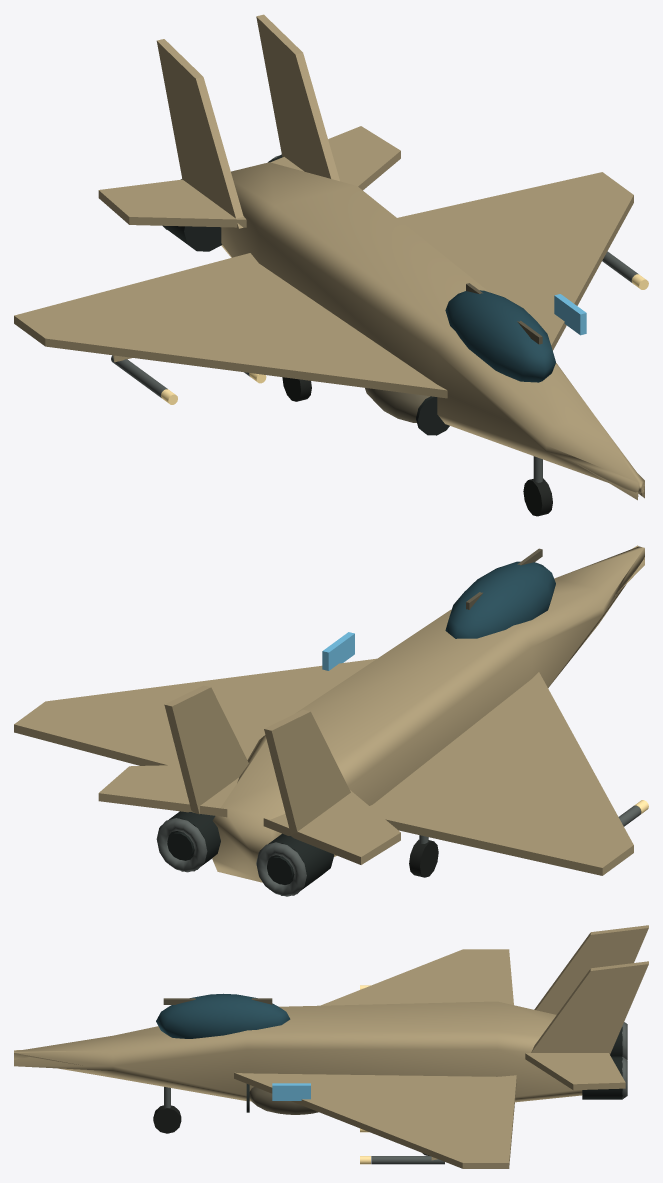
File: ecm.glb
3 renders of one model, top to bottom at view 1: azimuth 30°, elevation 25°; view 2: azimuth 150°, elevation 25°; view 3: azimuth 270°, elevation 25°, orthographic. The views are drawn at different scales.
Parts seen in each view (by area): view 1: armor, glass, dark, trim, rubber, steel, marking; view 2: armor, glass, dark, steel, rubber, marking; view 3: armor, glass, trim, steel, dark, marking, rubber.
Boxes of the visible parts, box(x1,y1,x2,y2) form: armor: box(14, 14, 644, 500); glass: box(445, 290, 555, 382); dark: box(163, 154, 449, 435); trim: box(365, 283, 542, 422); rubber: box(282, 377, 552, 516); steel: box(111, 155, 638, 397); marking: box(554, 294, 586, 335); armor: box(14, 545, 644, 882); glass: box(445, 561, 555, 638); dark: box(160, 811, 334, 895); steel: box(156, 805, 641, 896); rubber: box(409, 839, 438, 877); marking: box(322, 632, 354, 670); armor: box(14, 925, 648, 1168); glass: box(156, 993, 290, 1038); trim: box(163, 998, 318, 1114); steel: box(371, 1022, 627, 1164); dark: box(246, 1027, 622, 1112); marking: box(272, 1083, 310, 1100); rubber: box(153, 1105, 429, 1155).
Bounding box in the file's own units: 6.5 × 2.64 × 8.17.
